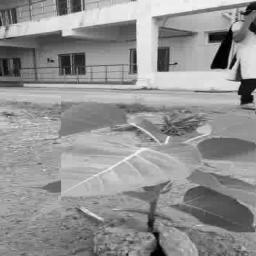LEAVS: (61, 95, 255, 233)
